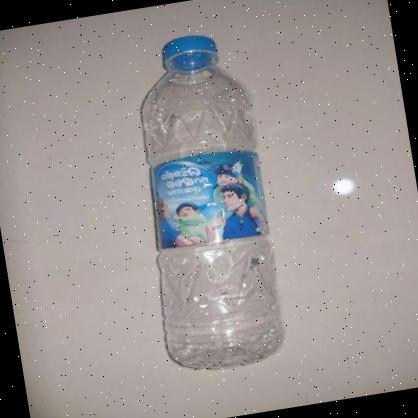bottle: (115, 27, 294, 378)
cap: (156, 31, 223, 71)
label: (140, 146, 272, 256)
